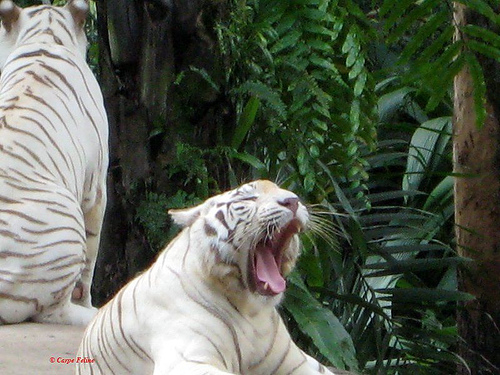Tigre: (124, 171, 339, 375), (4, 2, 107, 323)
